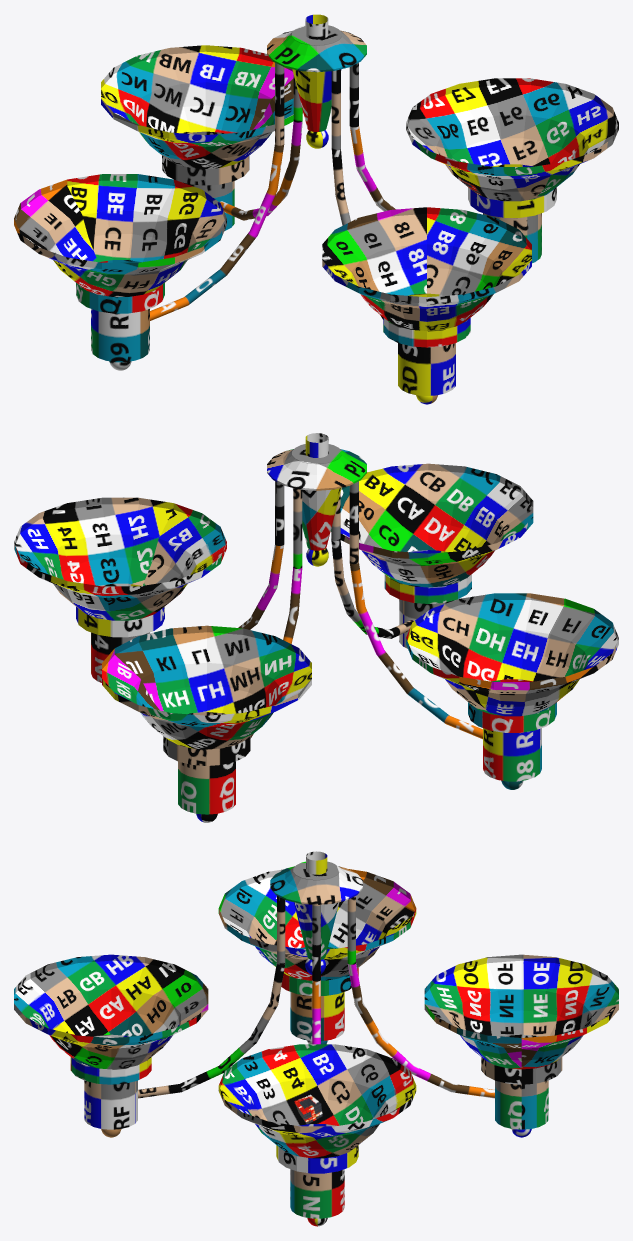
The model's file is livingroom light.FBX.
3 renders of one model, top to bottom at view 1: azimuth 30°, elevation 25°; view 2: azimuth 150°, elevation 25°; view 3: azimuth 270°, elevation 25°, orthographic. The views are drawn at different scales.
Parts seen in each view (by area): view 1: livingroom light; view 2: livingroom light; view 3: livingroom light.
Boxes of the visible parts, x1=… form: livingroom light: x1=14, y1=14, x2=618, y2=404; livingroom light: x1=14, y1=433, x2=618, y2=822; livingroom light: x1=14, y1=851, x2=618, y2=1226.
Bounding box in the file's own units: 1.51 × 0.7625 × 1.49.
1 material, 1 textured.
